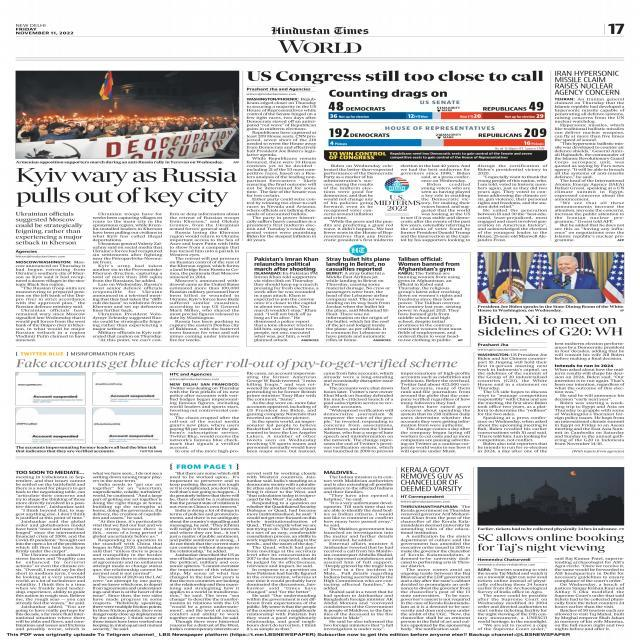Article: (9, 460, 396, 632), (9, 67, 243, 344), (245, 65, 550, 244), (10, 350, 473, 456), (474, 251, 630, 455), (476, 466, 628, 632), (552, 68, 629, 244), (397, 463, 472, 632), (395, 255, 465, 344), (322, 255, 392, 343), (250, 255, 320, 342)
Body: (245, 470, 318, 632), (90, 470, 162, 632), (167, 470, 239, 632), (14, 470, 86, 631), (322, 474, 394, 630), (554, 97, 627, 242), (246, 96, 316, 242), (91, 211, 164, 343), (168, 212, 242, 342), (402, 504, 471, 632), (554, 342, 626, 446), (478, 352, 550, 454), (398, 371, 472, 454), (320, 163, 396, 243), (14, 259, 86, 342), (323, 371, 394, 454), (246, 371, 316, 454), (476, 164, 548, 242), (401, 164, 472, 242), (555, 556, 626, 631), (168, 382, 241, 454), (253, 272, 319, 342), (325, 272, 391, 342), (397, 272, 463, 342), (476, 568, 548, 632)
Date: (15, 26, 75, 36)
Heading: (13, 164, 240, 208), (13, 356, 460, 369), (246, 68, 546, 86), (476, 313, 624, 337), (478, 532, 626, 554), (554, 69, 622, 95), (398, 466, 465, 492), (254, 256, 318, 272), (398, 256, 460, 272), (324, 256, 390, 271)
Highlights: (14, 210, 84, 247), (326, 88, 452, 99)
Image: (15, 70, 238, 159), (326, 99, 546, 160), (478, 468, 624, 526), (476, 252, 624, 303), (92, 408, 164, 443), (15, 371, 86, 406), (16, 408, 84, 444), (92, 372, 162, 404)
Name: (278, 38, 363, 54), (271, 24, 370, 34)
